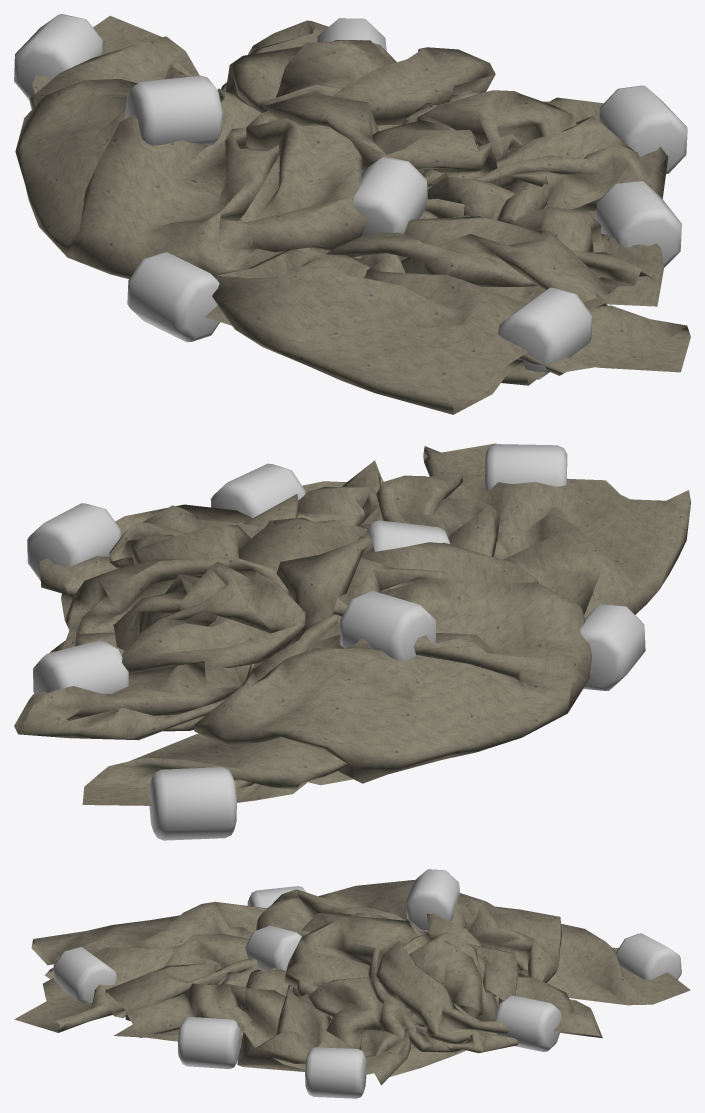
Rendered from SM_Fish_net_8_01.fbx.
The picture shows the model from 3 angles, top to bottom: view 1: azimuth 30°, elevation 25°; view 2: azimuth 150°, elevation 25°; view 3: azimuth 270°, elevation 25°; orthographic projection. The views are drawn at different scales.
Visible parts, largest first — view 1: SM_Fish_net_8_01_LOD0; view 2: SM_Fish_net_8_01_LOD0; view 3: SM_Fish_net_8_01_LOD0.
Part boxes in pixels (<box>): SM_Fish_net_8_01_LOD0: <box>14,14,690,414</box>; SM_Fish_net_8_01_LOD0: <box>14,443,690,840</box>; SM_Fish_net_8_01_LOD0: <box>14,869,690,1098</box>.
Size of the model in its own units: 78.93 by 118 by 17.81.
